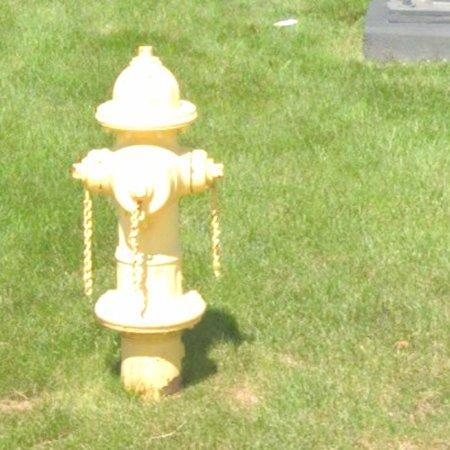a fire hydrant: (72, 46, 224, 399)
